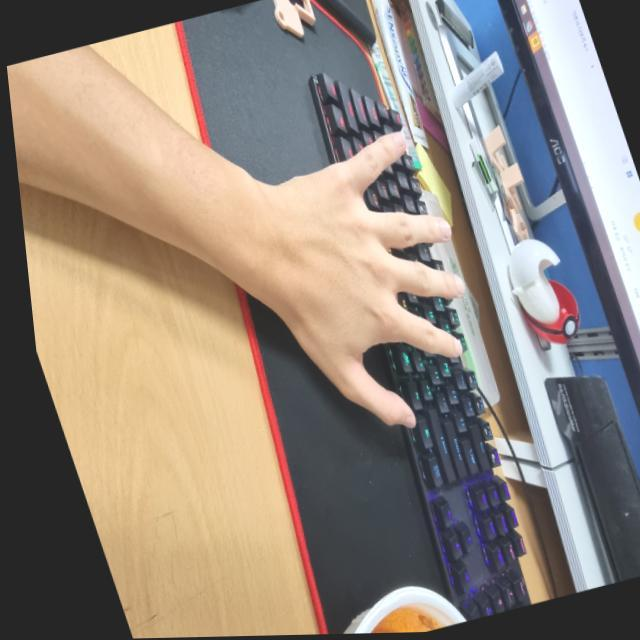keyboard-with-hands: (307, 71, 541, 622)
